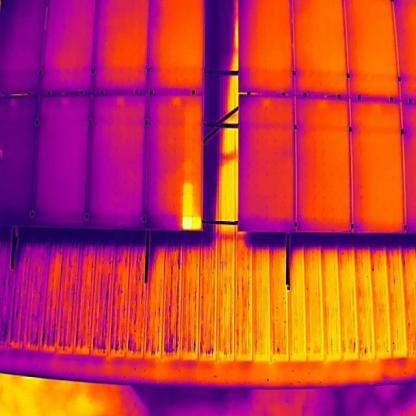anomaly: (177, 179, 204, 231)
